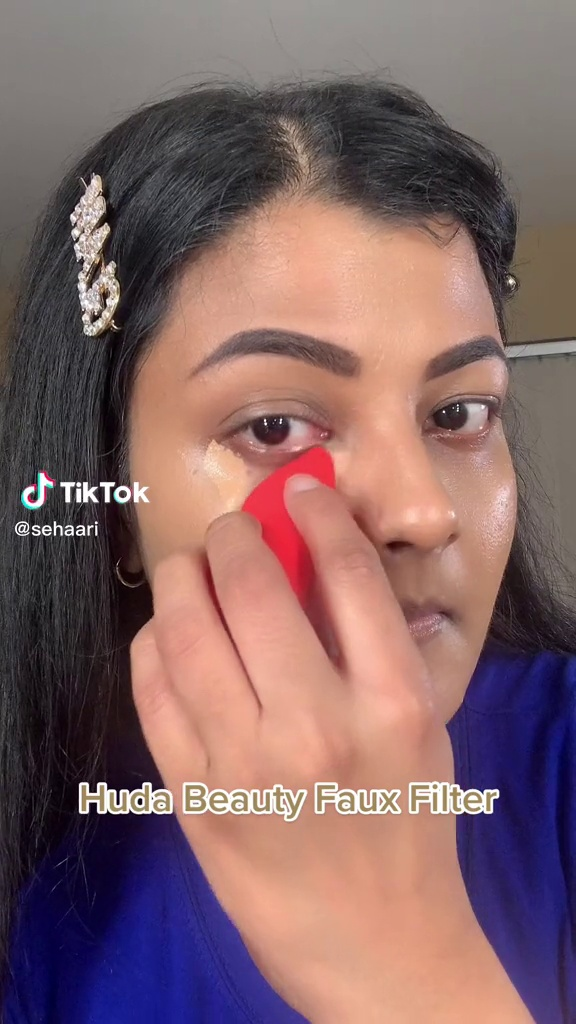train' :'yolo_data/train/images',: (192, 440, 350, 626)
